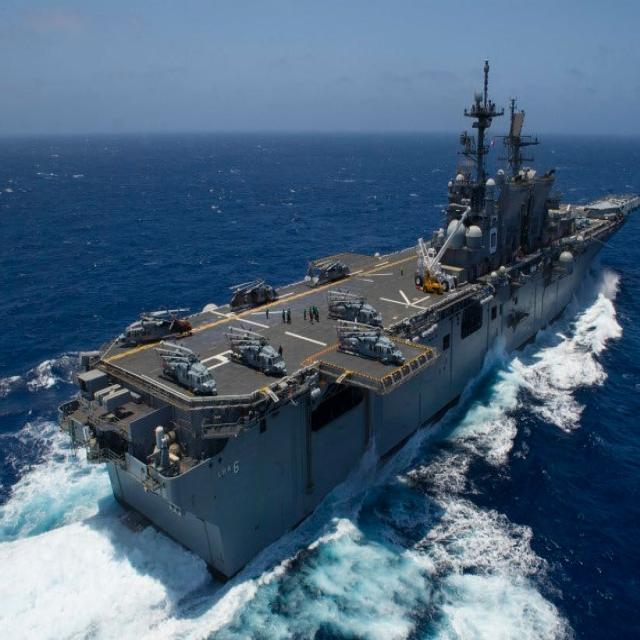navalvessels: (56, 28, 640, 577)
